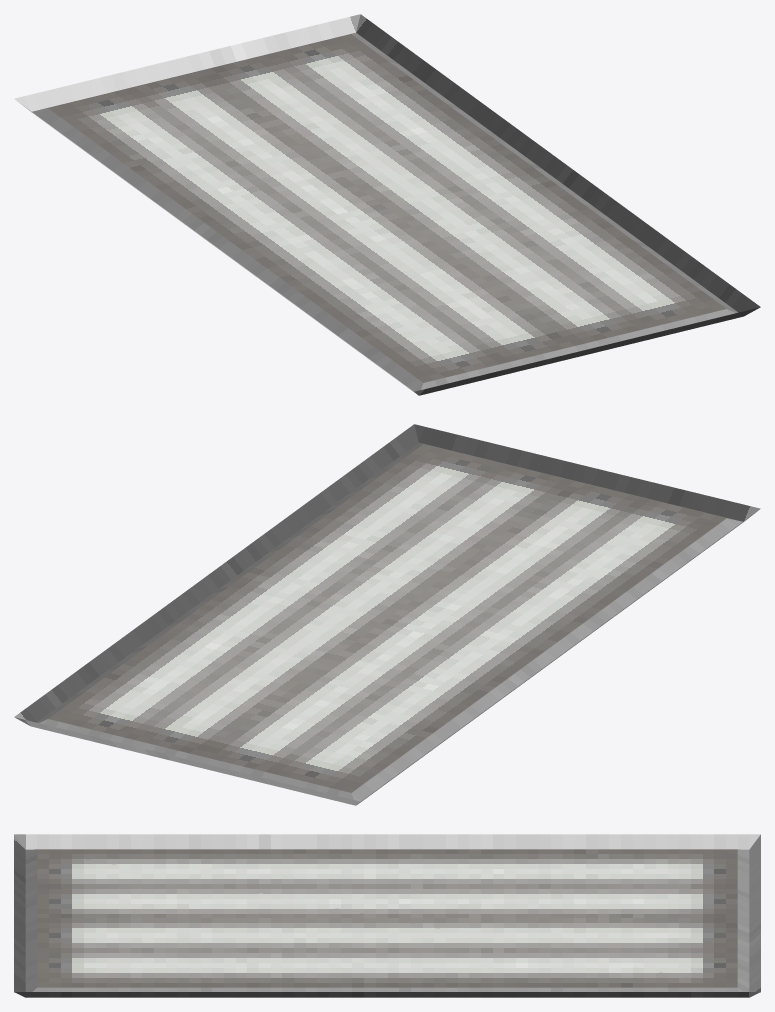
Rendered from CeilingLite64x32_off.obj.
3 views of the same model, one above another, from view 1: azimuth 30°, elevation 25°; view 2: azimuth 150°, elevation 25°; view 3: azimuth 270°, elevation 25° (orthographic). The views are drawn at different scales.
Parts seen in each view (by area): view 1: Cube; view 2: Cube; view 3: Cube.
Part boxes in pixels (x1=…): Cube: x1=14, y1=14, x2=760, y2=395; Cube: x1=14, y1=424, x2=760, y2=805; Cube: x1=14, y1=834, x2=760, y2=997.
Bounding box in the file's own units: 32 × 1 × 64.
